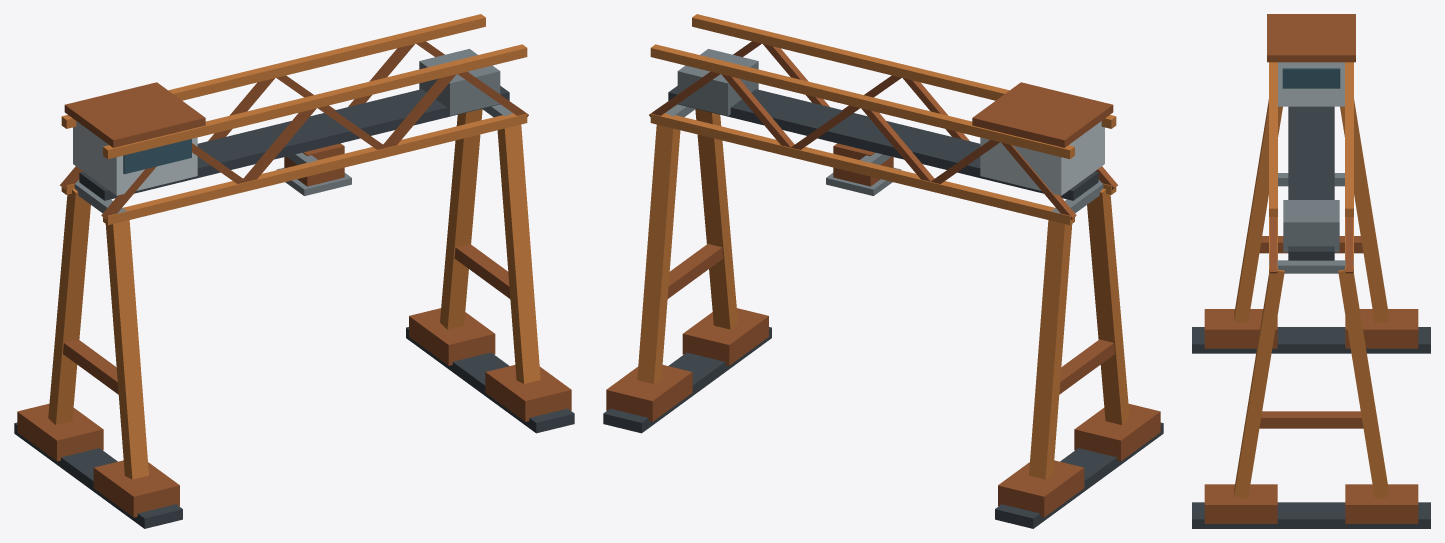
File: stacker-reclaimer.glb
3 views of the same model, side by side, from view 1: azimuth 30°, elevation 25°; view 2: azimuth 150°, elevation 25°; view 3: azimuth 270°, elevation 25° (orthographic). The views are drawn at different scales.
Visible parts, largest first — view 1: StackerReclaimer; view 2: StackerReclaimer; view 3: StackerReclaimer.
Boxes of the visible parts, x1,y1,x2,y2 form: StackerReclaimer: (14, 14, 574, 528); StackerReclaimer: (603, 14, 1163, 528); StackerReclaimer: (1192, 14, 1430, 528).
Size of the model in its own units: 6.6 by 5.17 by 3.4.
